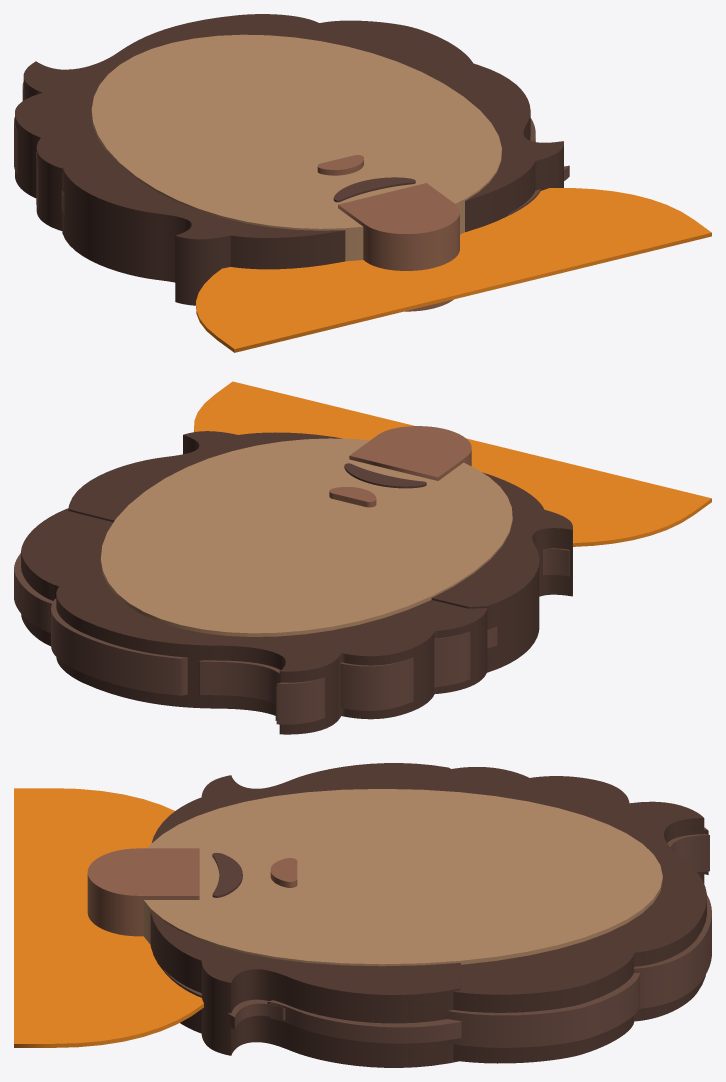
Rendered from emoji_u1f64d_1f3fd.glb.
3 views of the same model, one above another, from view 1: azimuth 30°, elevation 25°; view 2: azimuth 150°, elevation 25°; view 3: azimuth 270°, elevation 25° (orthographic). The views are drawn at different scales.
Parts seen in each view (by area): view 1: emoji_u1f64d_1f3fd; view 2: emoji_u1f64d_1f3fd; view 3: emoji_u1f64d_1f3fd.
Part boxes in pixels (bbox=[...]): emoji_u1f64d_1f3fd: bbox=[14, 14, 711, 352]; emoji_u1f64d_1f3fd: bbox=[14, 381, 711, 734]; emoji_u1f64d_1f3fd: bbox=[14, 763, 711, 1067].
Size of the model in its own units: 0.0271 by 0.0044 by 0.0313.
